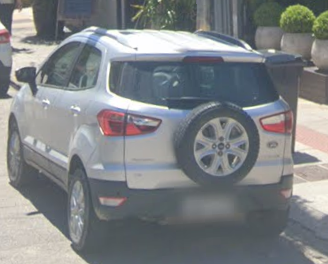car: (8, 27, 294, 256)
